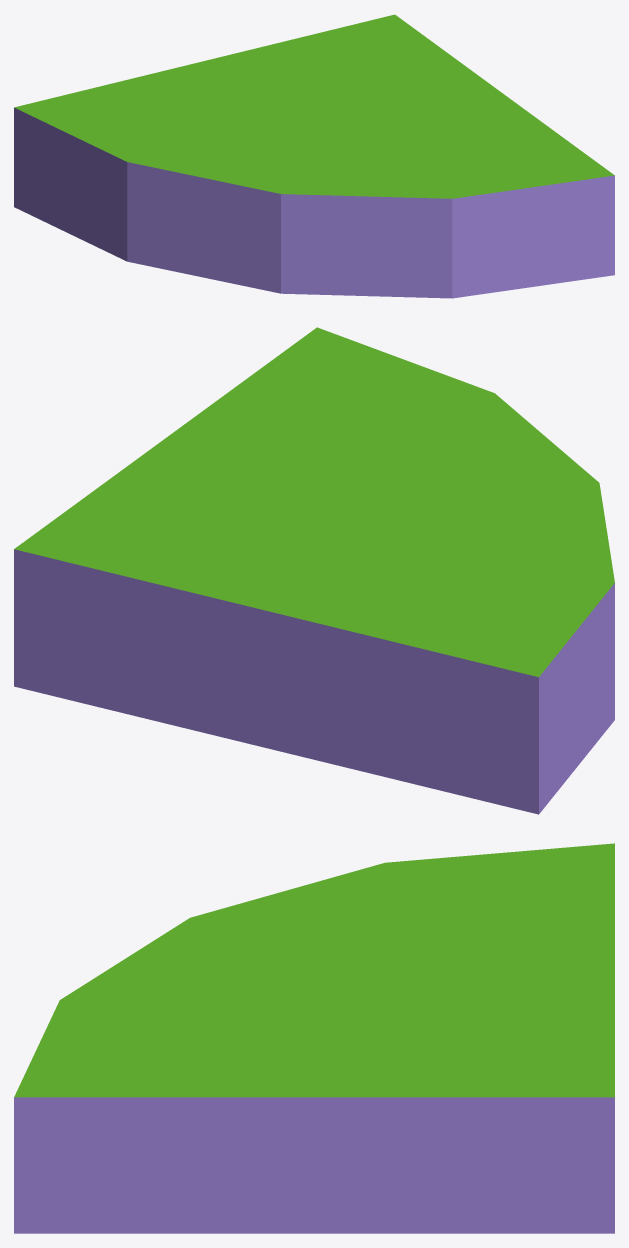
File: Tiered_Grass_Curve_Outer_1x1.glb
The picture shows the model from 3 angles, top to bottom: view 1: azimuth 30°, elevation 25°; view 2: azimuth 150°, elevation 25°; view 3: azimuth 270°, elevation 25°; orthographic projection. The views are drawn at different scales.
Parts seen in each view (by area): view 1: Tiered_Grass_Curve_Outer_1x1; view 2: Tiered_Grass_Curve_Outer_1x1; view 3: Tiered_Grass_Curve_Outer_1x1.
Boxes of the visible parts, left/top/right/bottom form: Tiered_Grass_Curve_Outer_1x1: left=14, top=14, right=614, bottom=298; Tiered_Grass_Curve_Outer_1x1: left=14, top=327, right=614, bottom=814; Tiered_Grass_Curve_Outer_1x1: left=14, top=843, right=614, bottom=1233.
Size of the model in its own units: 100 by 25 by 100.
